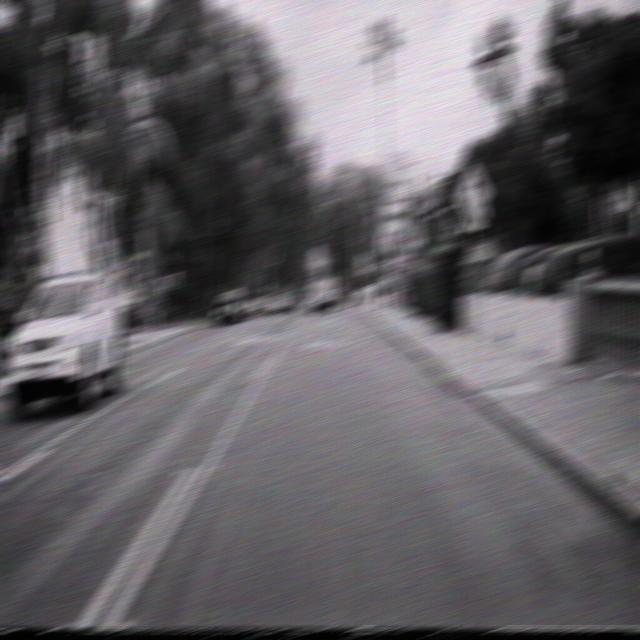pedestrianCrossing: (454, 161, 491, 224)
